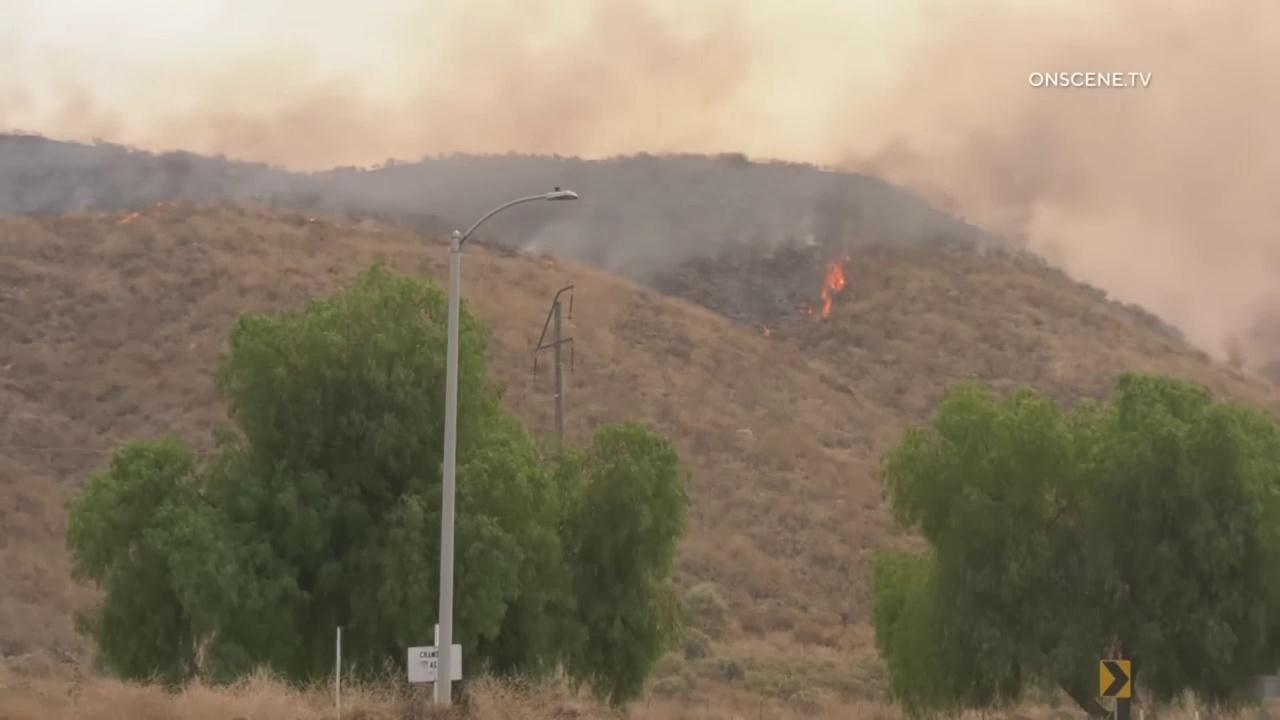fire: (819, 250, 852, 319), (118, 210, 139, 224), (762, 326, 771, 337), (309, 217, 318, 223)
smoke: (0, 0, 1280, 381)
